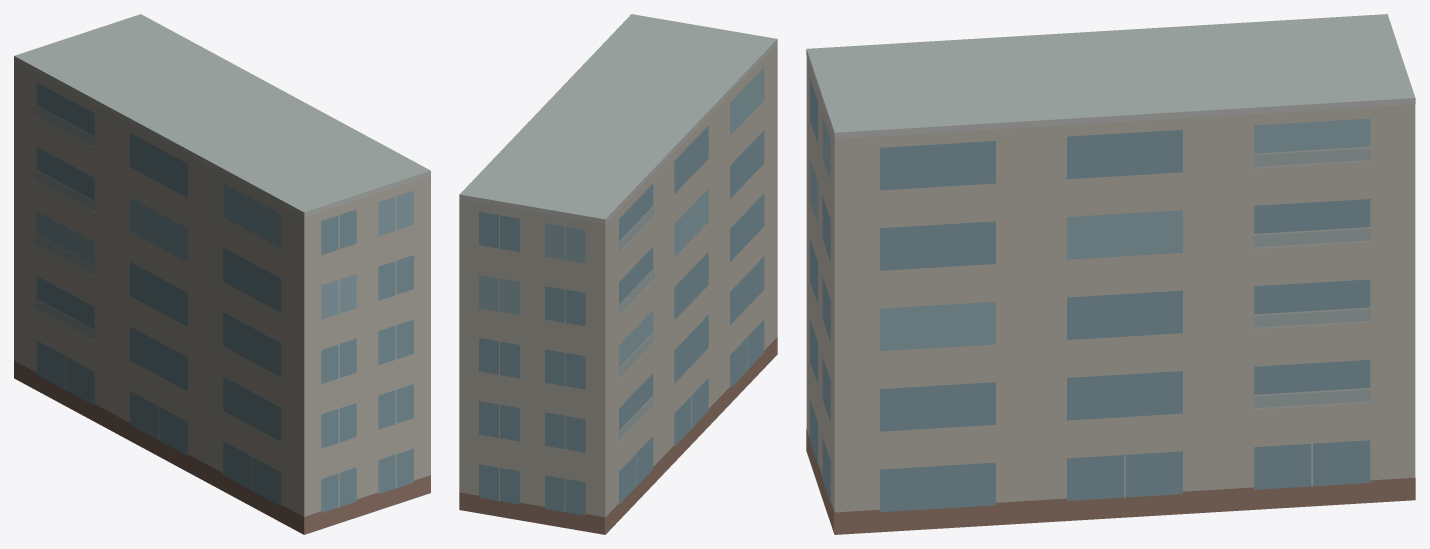
The model's file is survey-upis-32579055.glb.
3 renders of one model, left to right at view 1: azimuth 30°, elevation 25°; view 2: azimuth 150°, elevation 25°; view 3: azimuth 270°, elevation 25°, orthographic. The views are drawn at different scales.
Visible parts, largest first — view 1: survey-upis-32579055.tmp; view 2: survey-upis-32579055.tmp; view 3: survey-upis-32579055.tmp.
Part boxes in pixels (x1,y1,x2,y2): survey-upis-32579055.tmp: [14, 14, 430, 534]; survey-upis-32579055.tmp: [459, 14, 777, 534]; survey-upis-32579055.tmp: [806, 14, 1415, 534].
Size of the model in its own units: 9.95 by 15.7 by 21.56.
